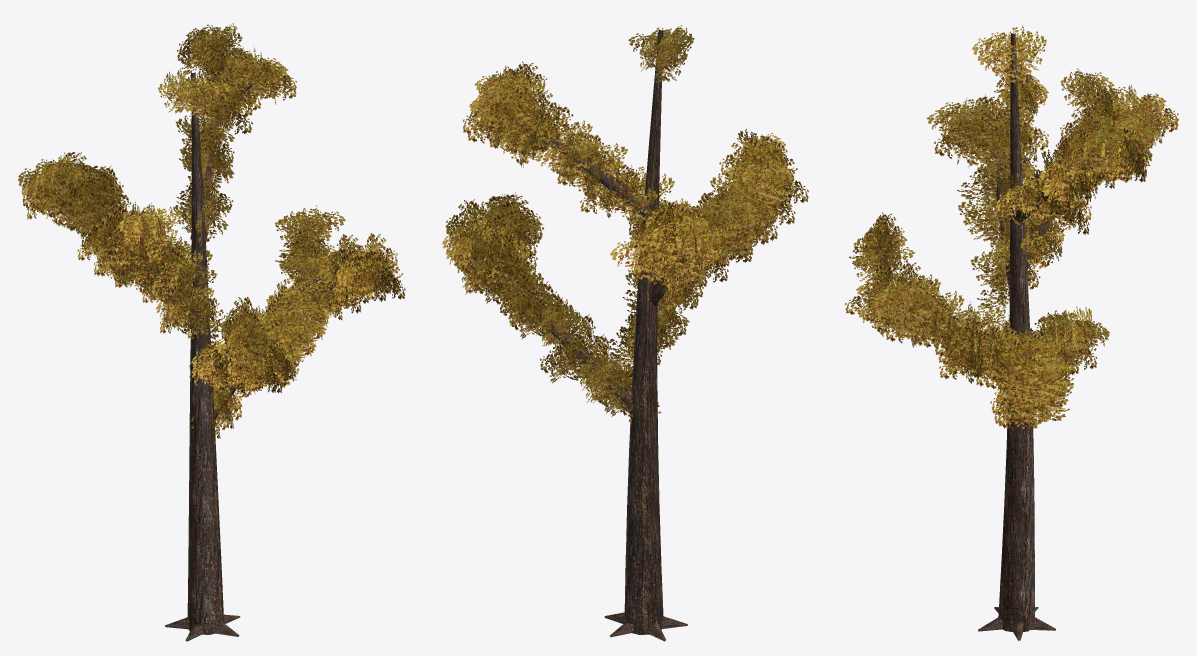
The model's file is tree_3d_06_yellow_lod0.glb.
3 views of the same model, side by side, from view 1: azimuth 30°, elevation 25°; view 2: azimuth 150°, elevation 25°; view 3: azimuth 270°, elevation 25° (orthographic). The views are drawn at different scales.
Visible parts, largest first — view 1: foliage_cards, wood_geometry; view 2: foliage_cards, wood_geometry; view 3: foliage_cards, wood_geometry.
Boxes of the visible parts, <box> form: foliage_cards: <box>18,23,405,438</box>; wood_geometry: <box>48,56,384,641</box>; foliage_cards: <box>442,25,808,424</box>; wood_geometry: <box>483,29,769,641</box>; foliage_cards: <box>844,26,1179,431</box>; wood_geometry: <box>880,33,1155,640</box>.
Bounding box in the file's own units: 5.21 × 8.1 × 4.24.
2 materials, 2 textured.
